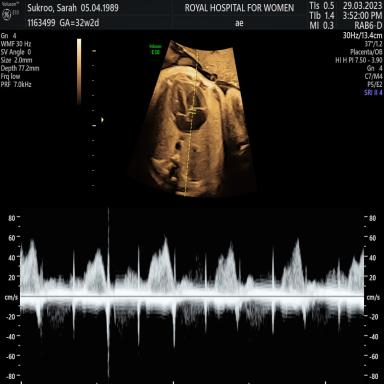Ultrasound-Waves: (27, 210, 363, 384)
